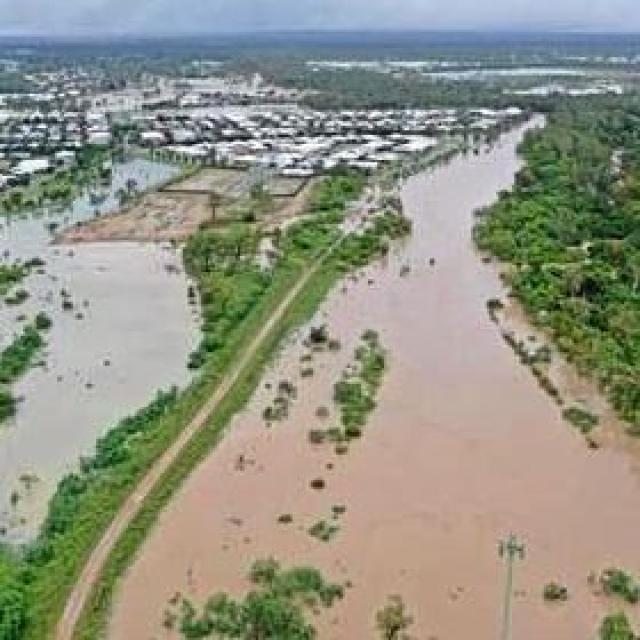flooded_areas: (135, 80, 626, 638)
